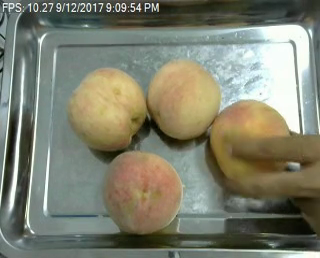Peach: (66, 67, 146, 152), (104, 150, 182, 233), (147, 59, 220, 140), (212, 97, 291, 166)
